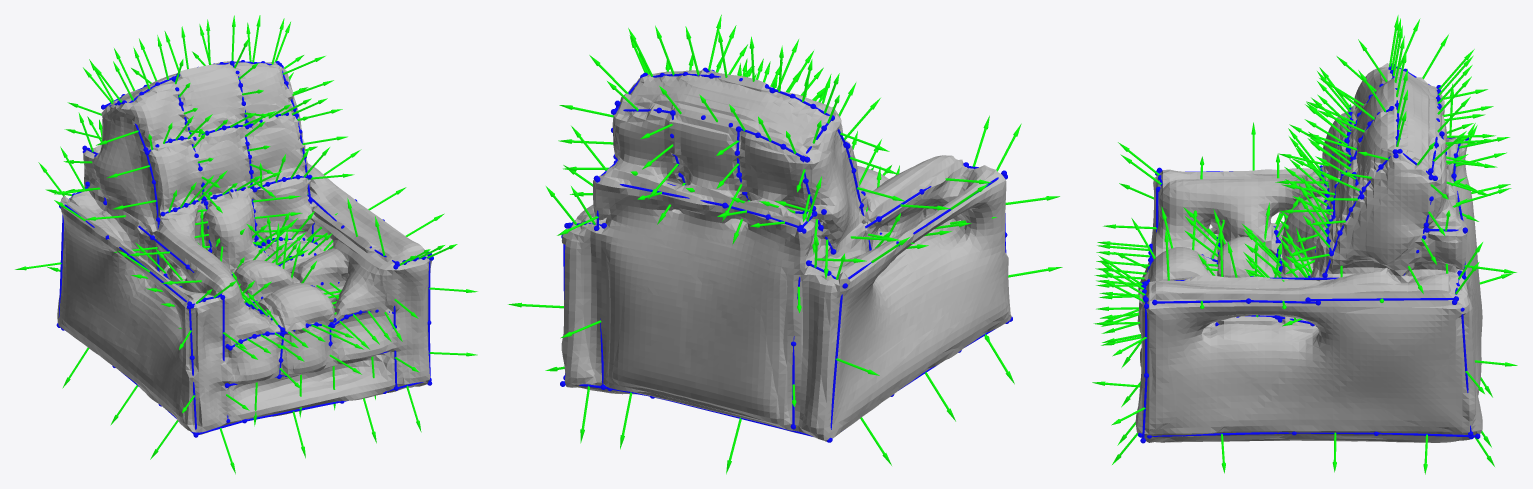
Rendered from author2_sofa.gltf.
The picture shows the model from 3 angles, left to right: view 1: azimuth 30°, elevation 25°; view 2: azimuth 150°, elevation 25°; view 3: azimuth 270°, elevation 25°; orthographic projection. The views are drawn at different scales.
Bounding box in the file's own units: 0.7176 × 0.7522 × 0.774.
